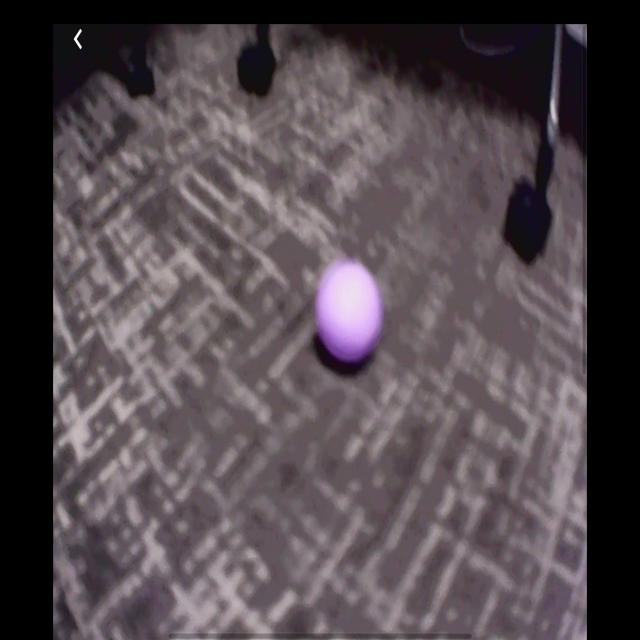ball: (315, 262, 383, 360)
